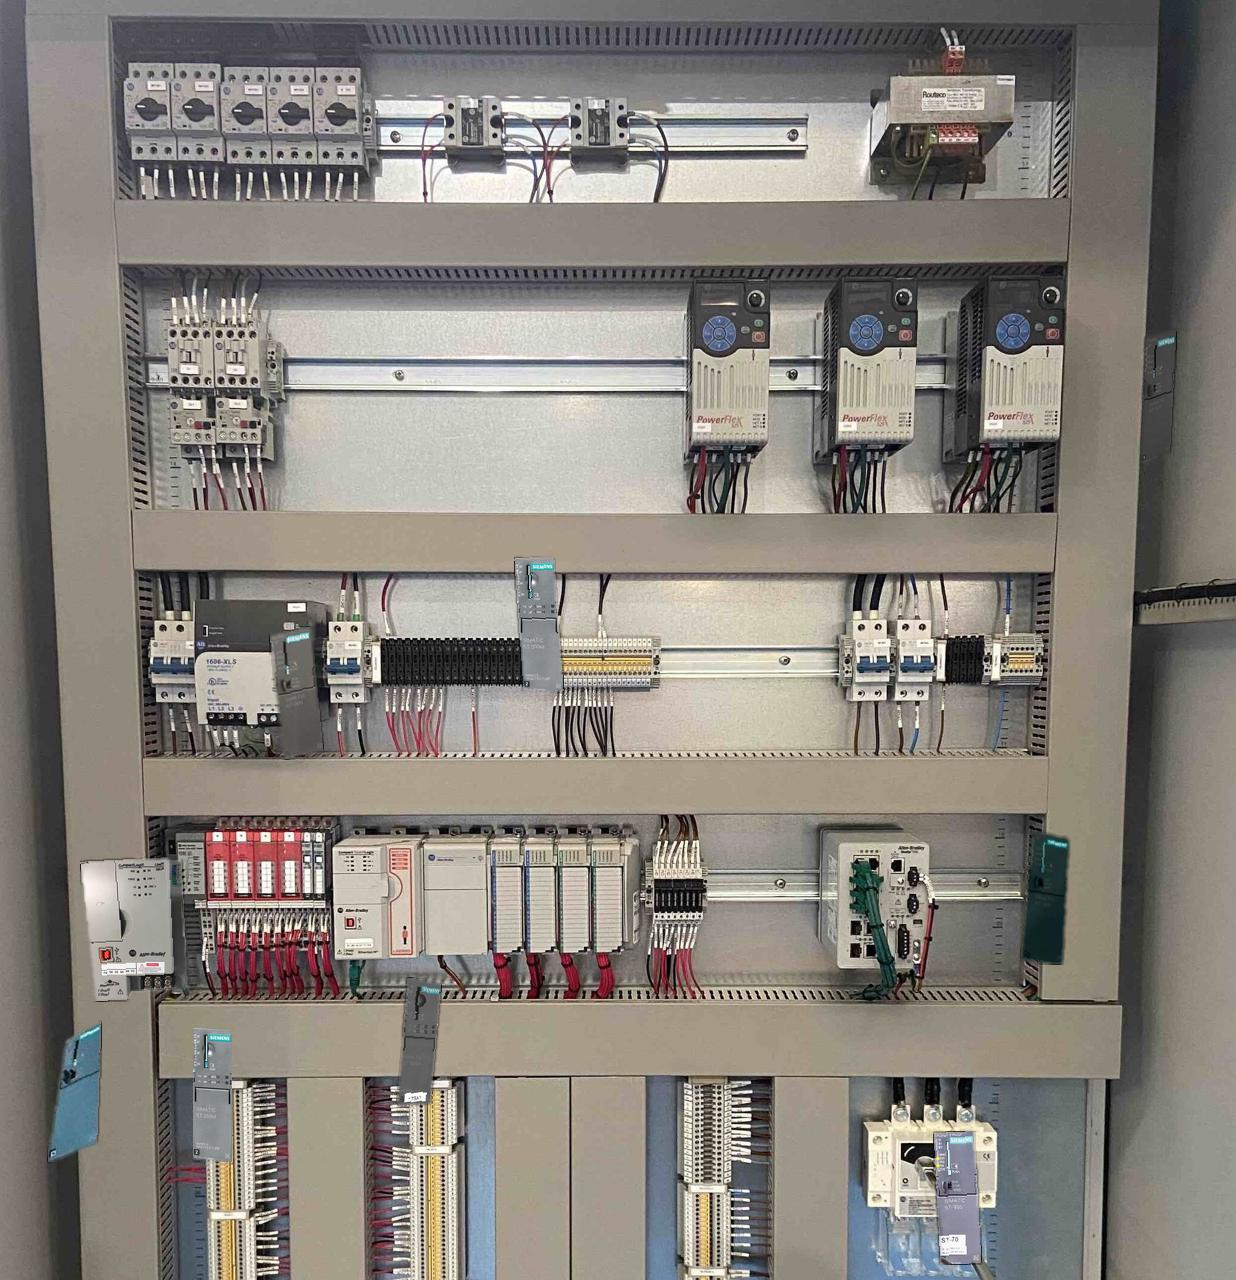AllenBradley: (80, 858, 185, 1000)
Siemens: (48, 1022, 101, 1161), (270, 627, 322, 758), (1021, 829, 1068, 965), (934, 1131, 980, 1264), (1141, 330, 1175, 463)
